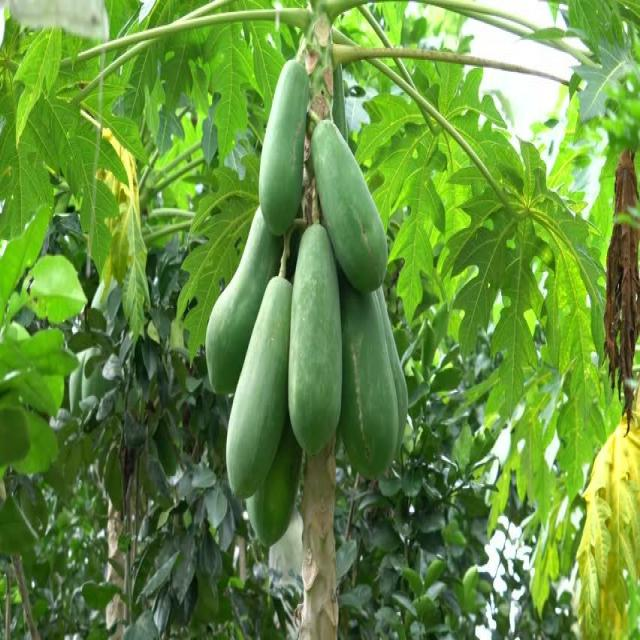Pepaya unrippen: (223, 281, 295, 515), (310, 118, 390, 294), (250, 44, 312, 251), (287, 238, 338, 474), (343, 319, 404, 468)
